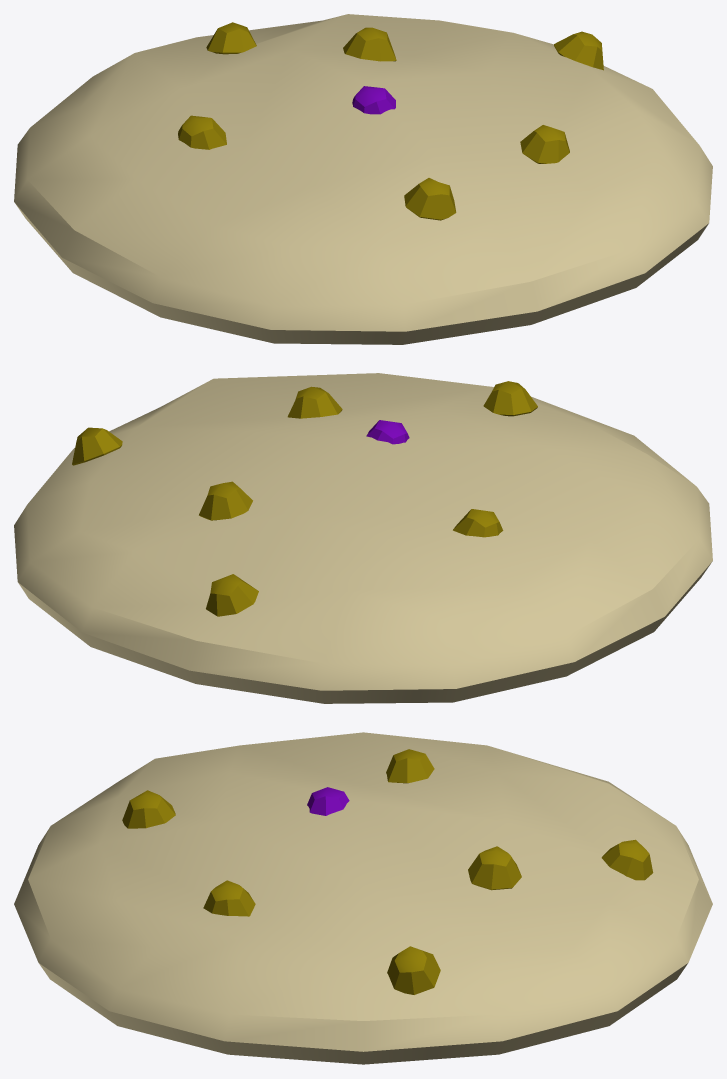
File: Cookie.fbx
3 renders of one model, top to bottom at view 1: azimuth 30°, elevation 25°; view 2: azimuth 150°, elevation 25°; view 3: azimuth 270°, elevation 25°, orthographic.
Visible parts, largest first — view 1: Cookie; view 2: Cookie; view 3: Cookie.
Part boxes in pixels (box(x1,y1,x2,y2)): Cookie: box(14, 14, 712, 344); Cookie: box(14, 373, 712, 703); Cookie: box(14, 732, 712, 1064).
Bounding box in the file's own units: 8.54 × 1.74 × 8.54.
